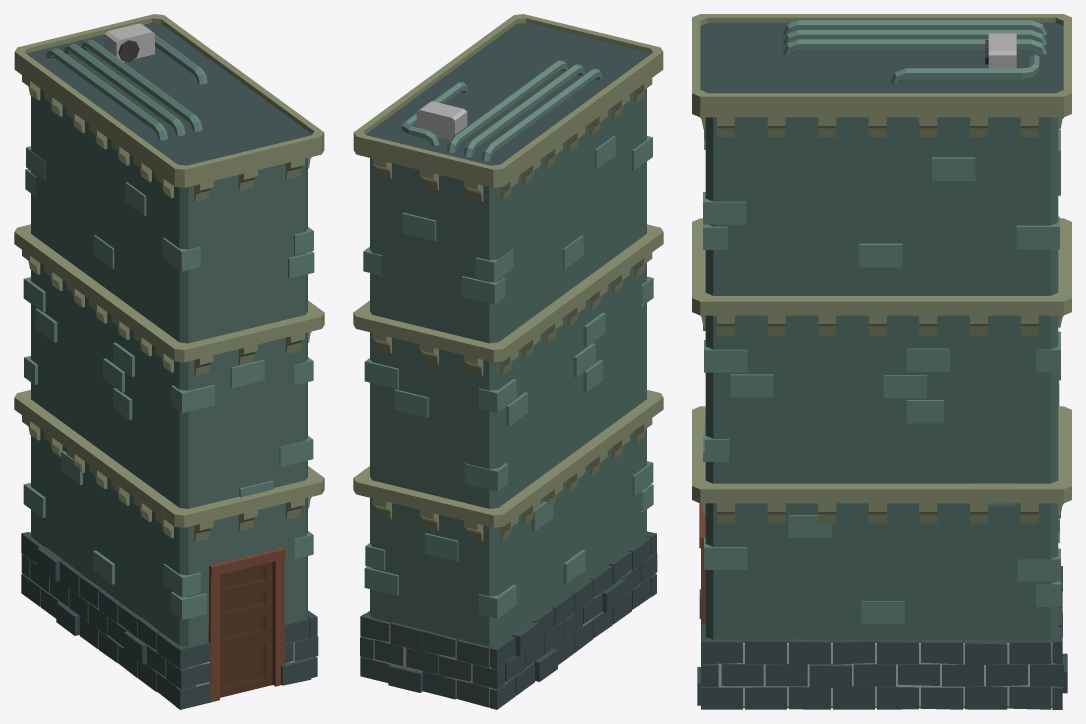
File: 3Story_Slim_Mat.gltf
3 renders of one model, left to right at view 1: azimuth 30°, elevation 25°; view 2: azimuth 150°, elevation 25°; view 3: azimuth 270°, elevation 25°, orthographic. The views are drawn at different scales.
Visible parts, largest first — view 1: o 3Story_Slim_Mat_Cube.031; view 2: o 3Story_Slim_Mat_Cube.031; view 3: o 3Story_Slim_Mat_Cube.031.
Boxes of the visible parts, x1=… form: o 3Story_Slim_Mat_Cube.031: x1=14, y1=14, x2=324, y2=709; o 3Story_Slim_Mat_Cube.031: x1=353, y1=14, x2=663, y2=709; o 3Story_Slim_Mat_Cube.031: x1=692, y1=14, x2=1071, y2=709.
Bounding box in the file's own units: 1.12 × 3.99 × 2.15.
